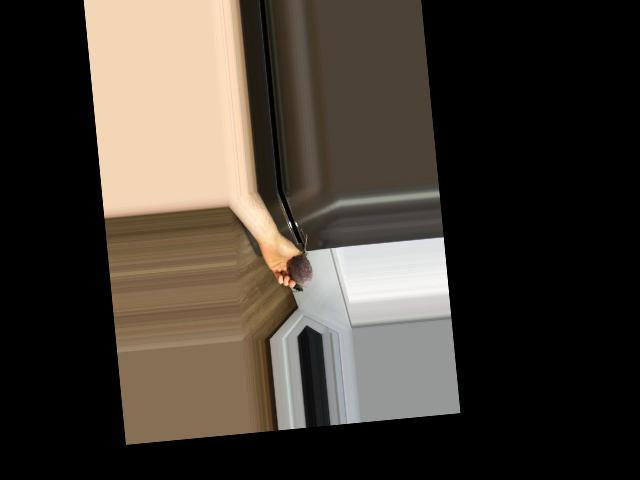beet: (286, 234, 314, 293)
